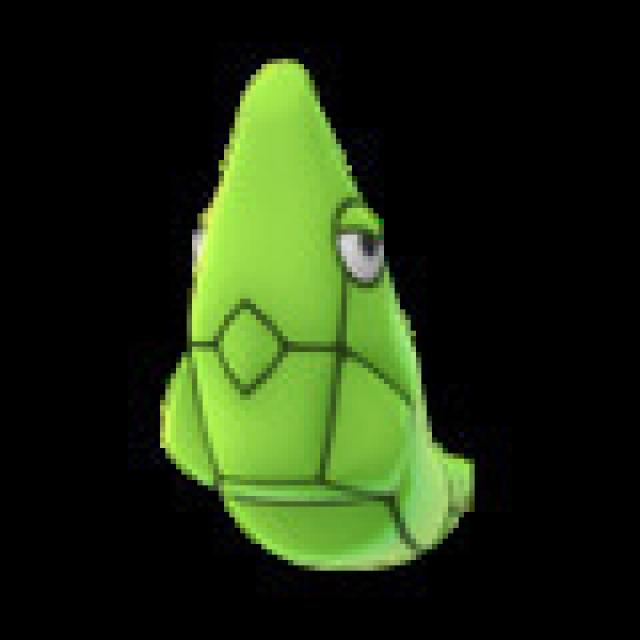Metapod: (151, 57, 477, 576)
